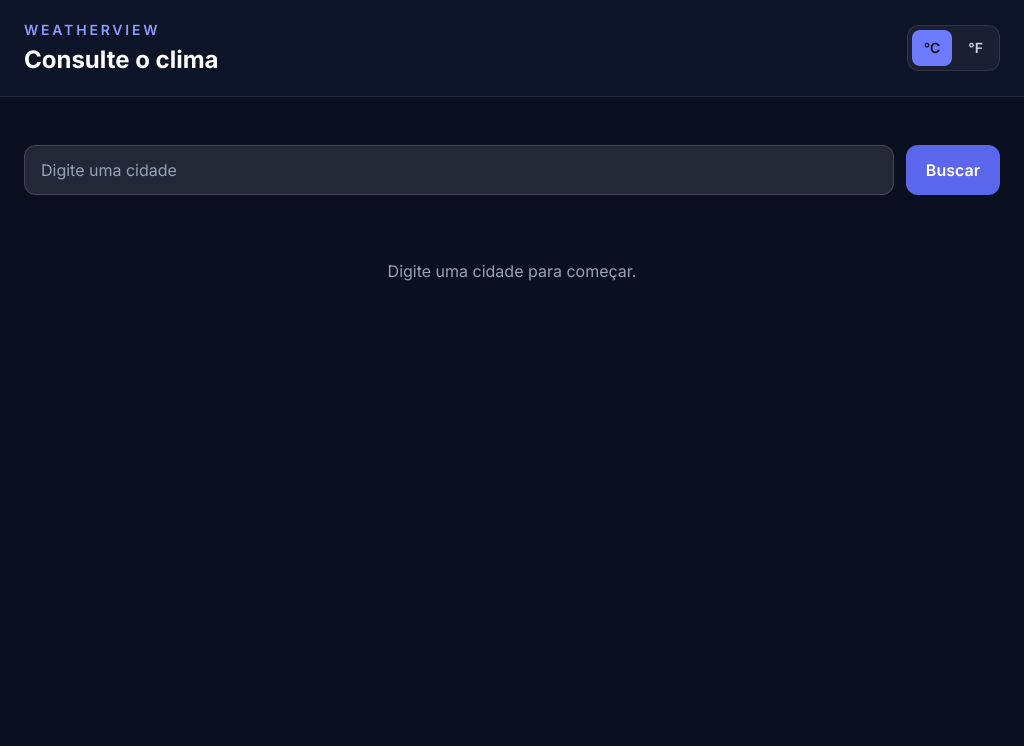
Scenario: interface do weather app › busca, seleciona uma cidade e alterna a unidade
This screenshot has width=1024, height=746.
Type "São Paulo" into the search field named "Nome da cidade" at (459, 170), box [24,145,894,195]
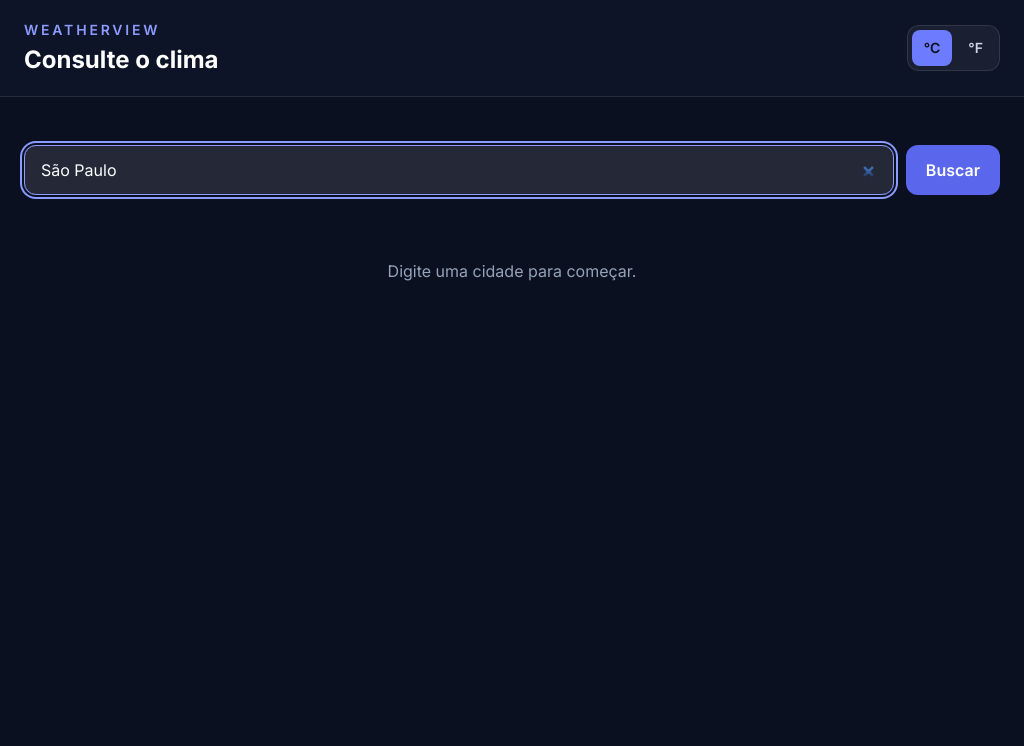
Click the button "Buscar" at (953, 170), box [906,145,1000,195]
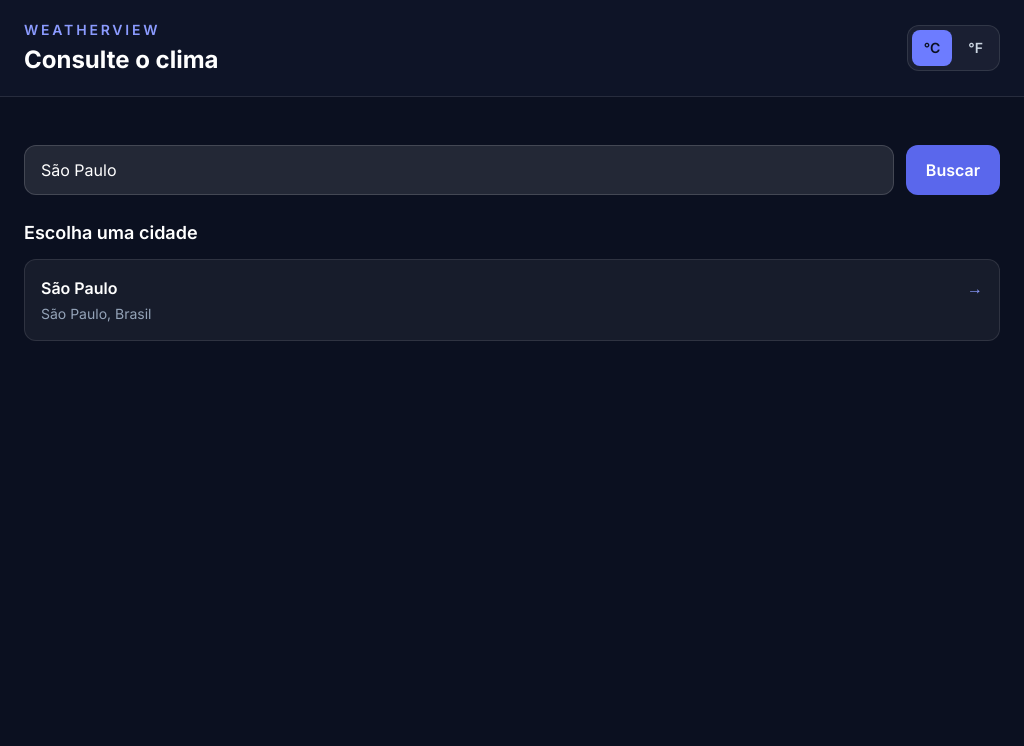
Click the button "São Paulo São Paulo, Brasil →" at (79, 288), box [24,259,1000,341]
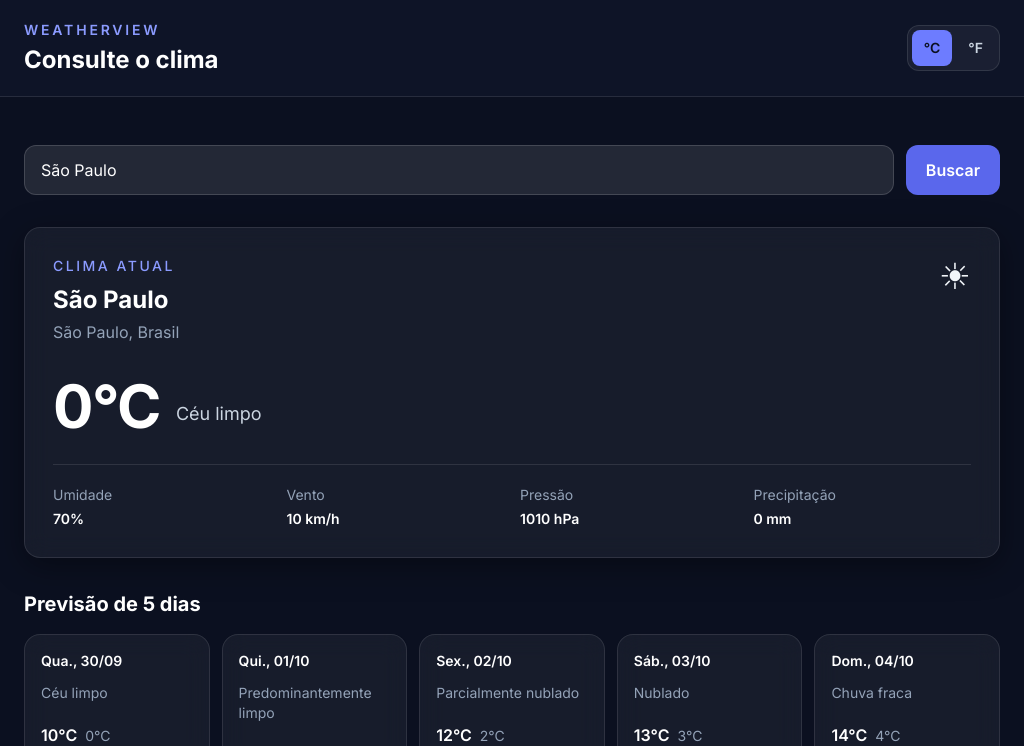
Expected: the text "Clima atual" is shown, [53,256,179,276]
Expected: the heading "Previsão de 5 dias" is shown, [24,592,201,616]
Click the button named "Fahrenheit" at (976, 48), box [956,30,995,66]
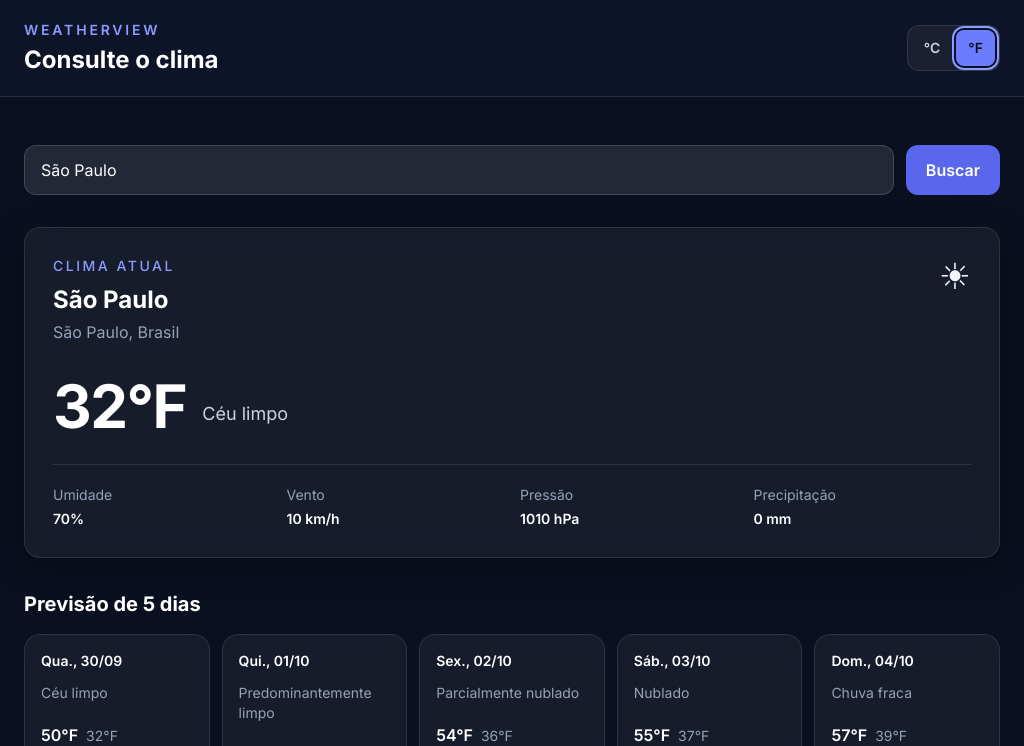
Expected: the text with test id "current-temperature" reads "32°F", [53,370,186,442]
